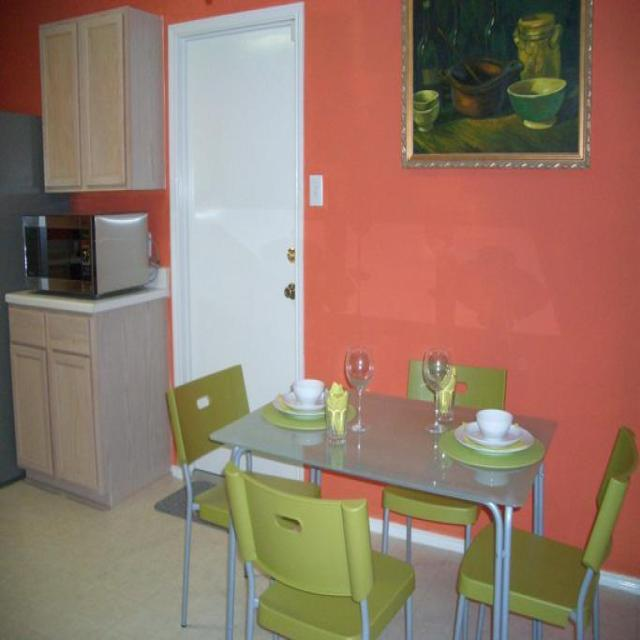chair: (165, 364, 320, 638), (452, 425, 638, 639), (223, 461, 415, 639)
cupboard: (6, 288, 170, 510), (37, 4, 166, 194)
door: (167, 4, 304, 485)
glass: (344, 345, 374, 433), (420, 348, 450, 434)
pots: (444, 55, 522, 117), (512, 11, 562, 79), (506, 75, 567, 129), (412, 89, 440, 132)
rugs: (152, 479, 228, 531)
table: (208, 387, 557, 638)
